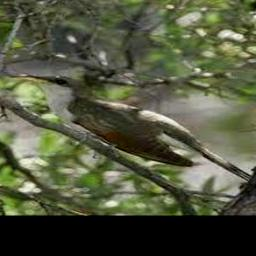Cuckoo: (13, 75, 253, 181)
